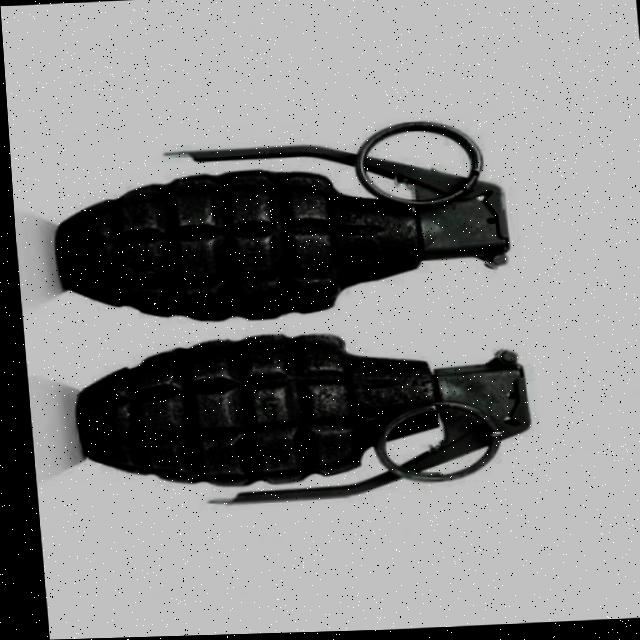grenade: (52, 113, 592, 528)
